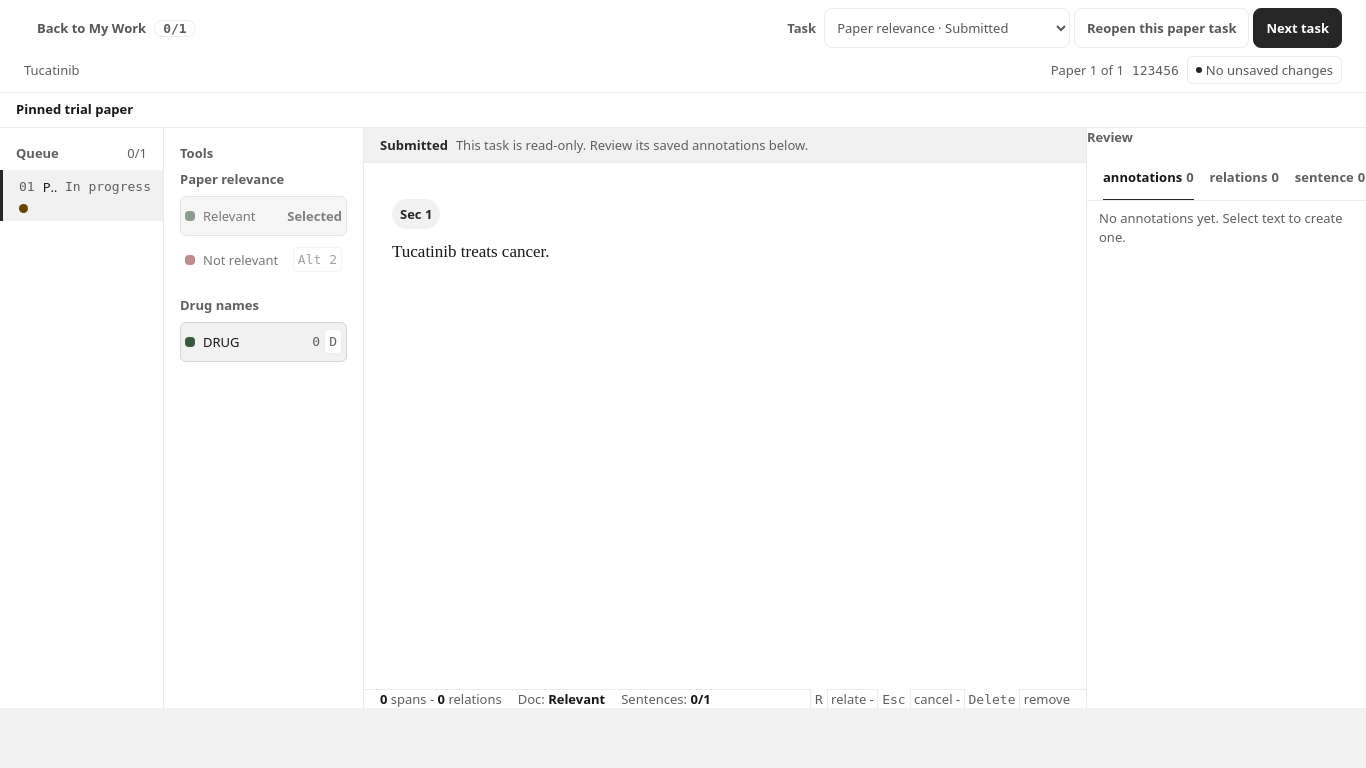
Test: reopens classification through a superseding draft while keeping the original submitted decision
Step 1. Click the button "Reopen this paper task" → (1162, 28), box [1074,8,1249,48]
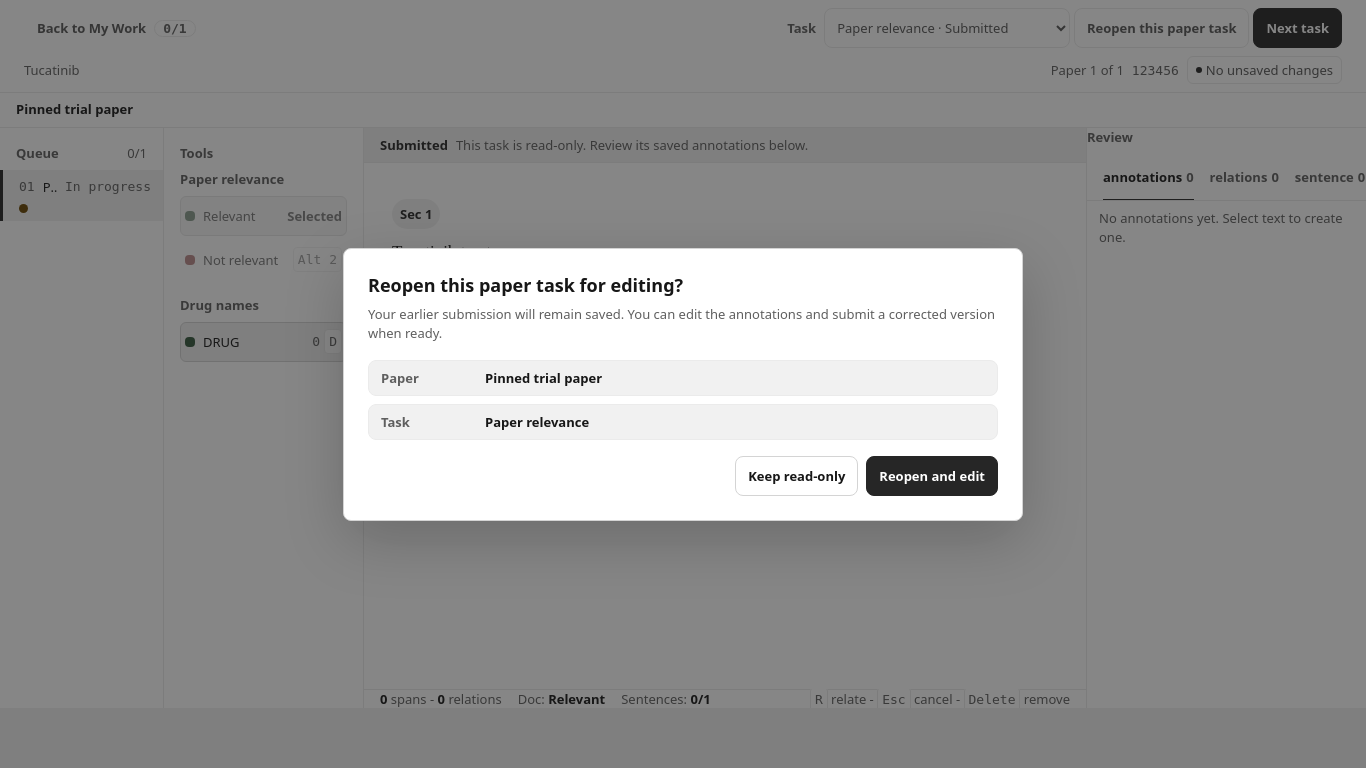
Step 2. Click the button "Reopen and edit" → (932, 476), box [866,456,998,496]
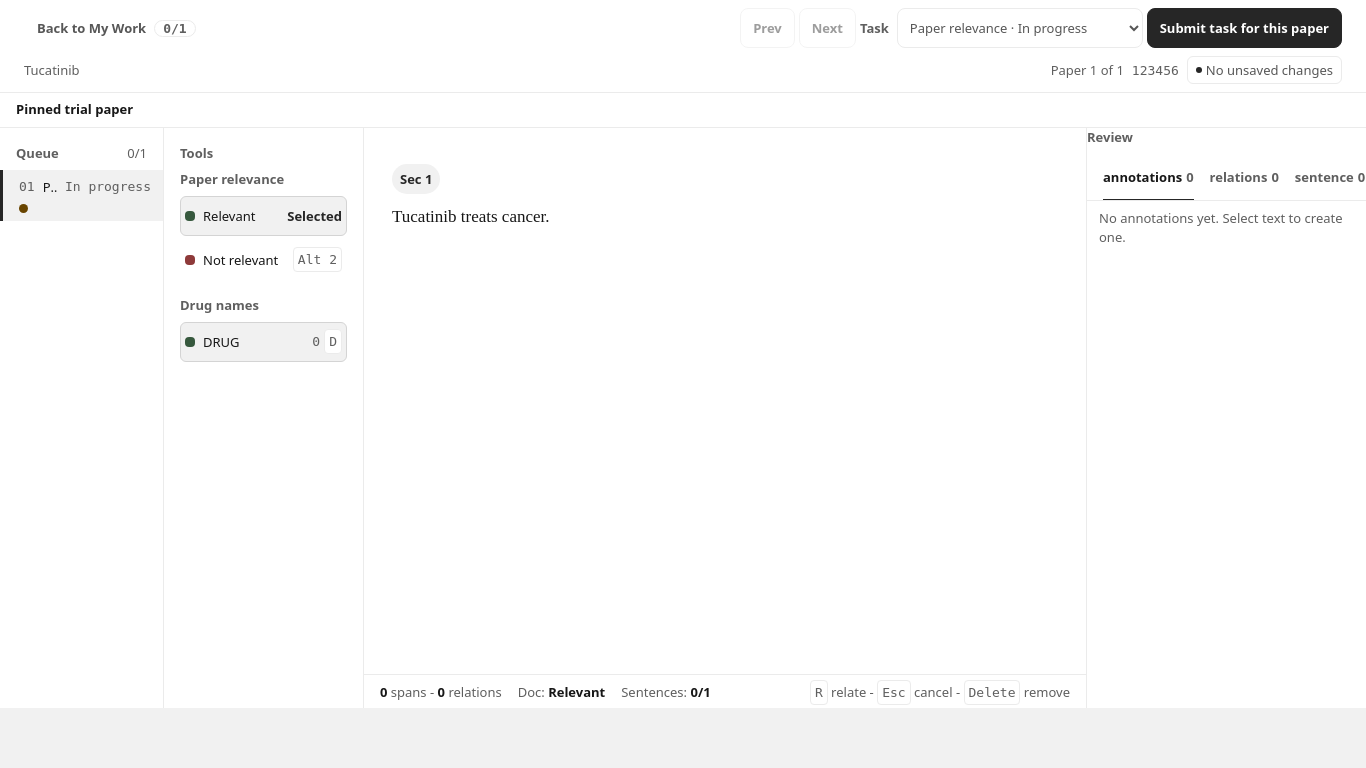
Check: the button "Relevant Selected" is enabled, box [180,196,347,236]
